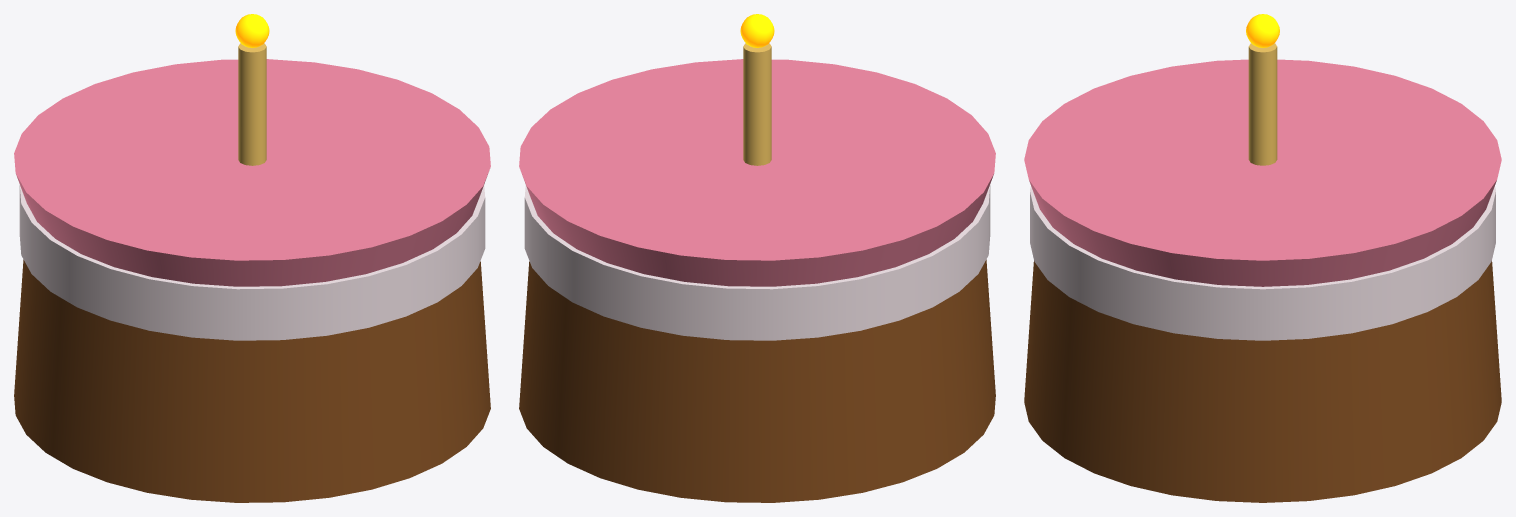
The model's file is cake.glb.
3 views of the same model, side by side, from view 1: azimuth 30°, elevation 25°; view 2: azimuth 150°, elevation 25°; view 3: azimuth 270°, elevation 25° (orthographic).
Parts seen in each view (by area): view 1: Cake; view 2: Cake; view 3: Cake.
Part boxes in pixels (x1,y1,x2,y2): Cake: (14,14,490,502); Cake: (519,14,995,502); Cake: (1024,14,1501,502).
Size of the model in its own units: 0.84 by 0.75 by 0.84.
